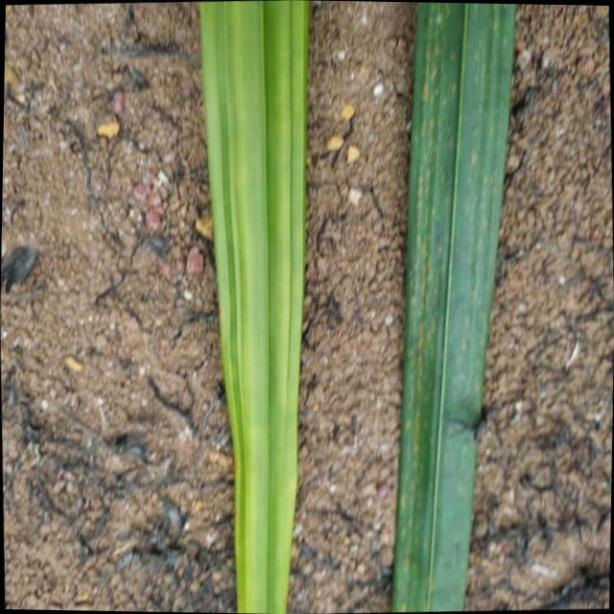nitrogen: (194, 0, 306, 614)
